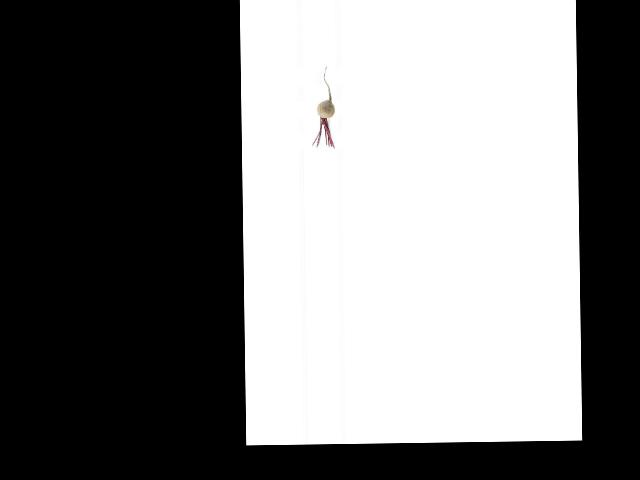beet: (312, 65, 335, 148)
